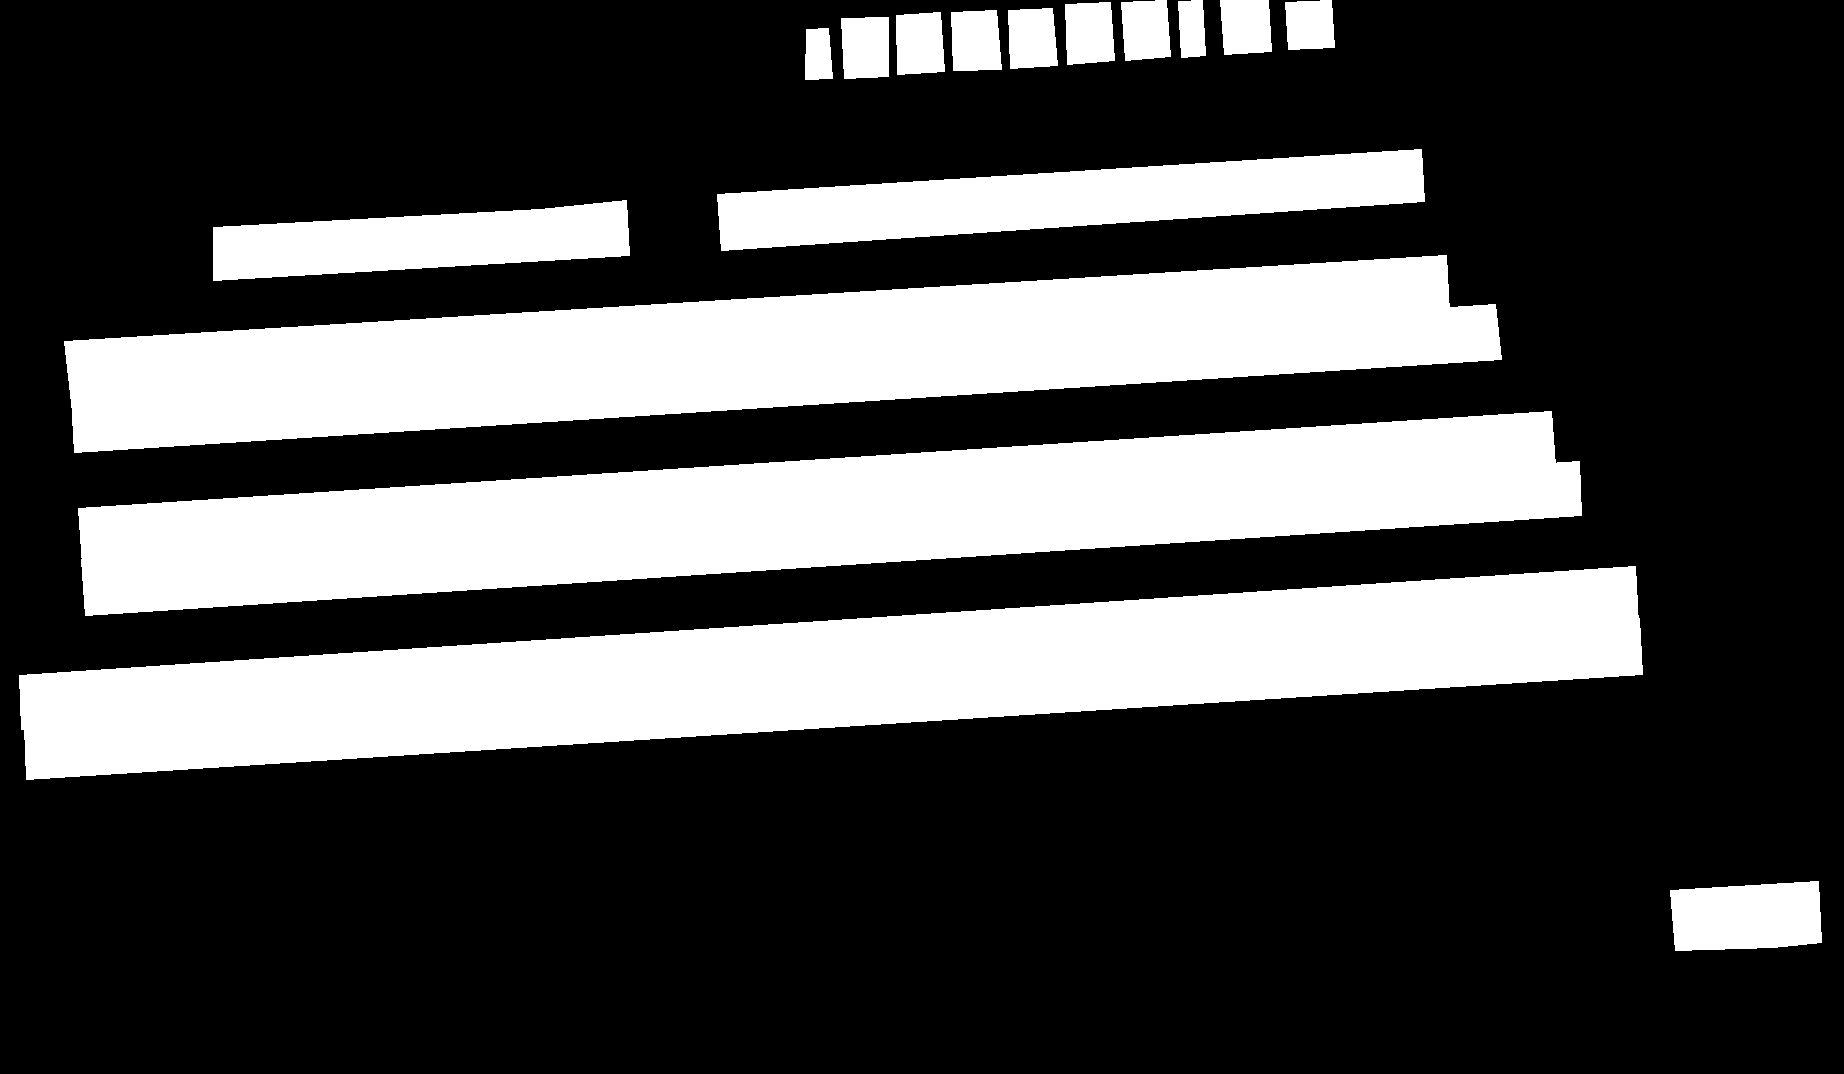parkingspot: (19, 566, 1638, 729), (24, 618, 1642, 779), (81, 462, 1581, 615), (78, 410, 1555, 564), (72, 304, 1502, 453), (64, 254, 1449, 403), (717, 150, 1424, 251), (213, 199, 629, 280), (1670, 881, 1821, 950), (1064, 3, 1114, 64), (896, 12, 944, 74), (951, 10, 1001, 70), (1121, 0, 1171, 60), (1008, 8, 1057, 68), (841, 17, 888, 78), (1220, 0, 1272, 54), (1286, 0, 1334, 49), (1178, 0, 1205, 58), (805, 28, 832, 79)
